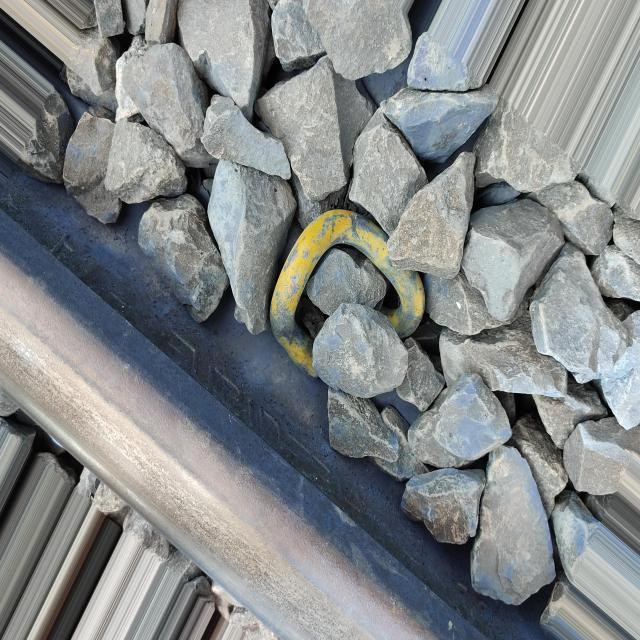Good Fasteners: (270, 209, 425, 375)
